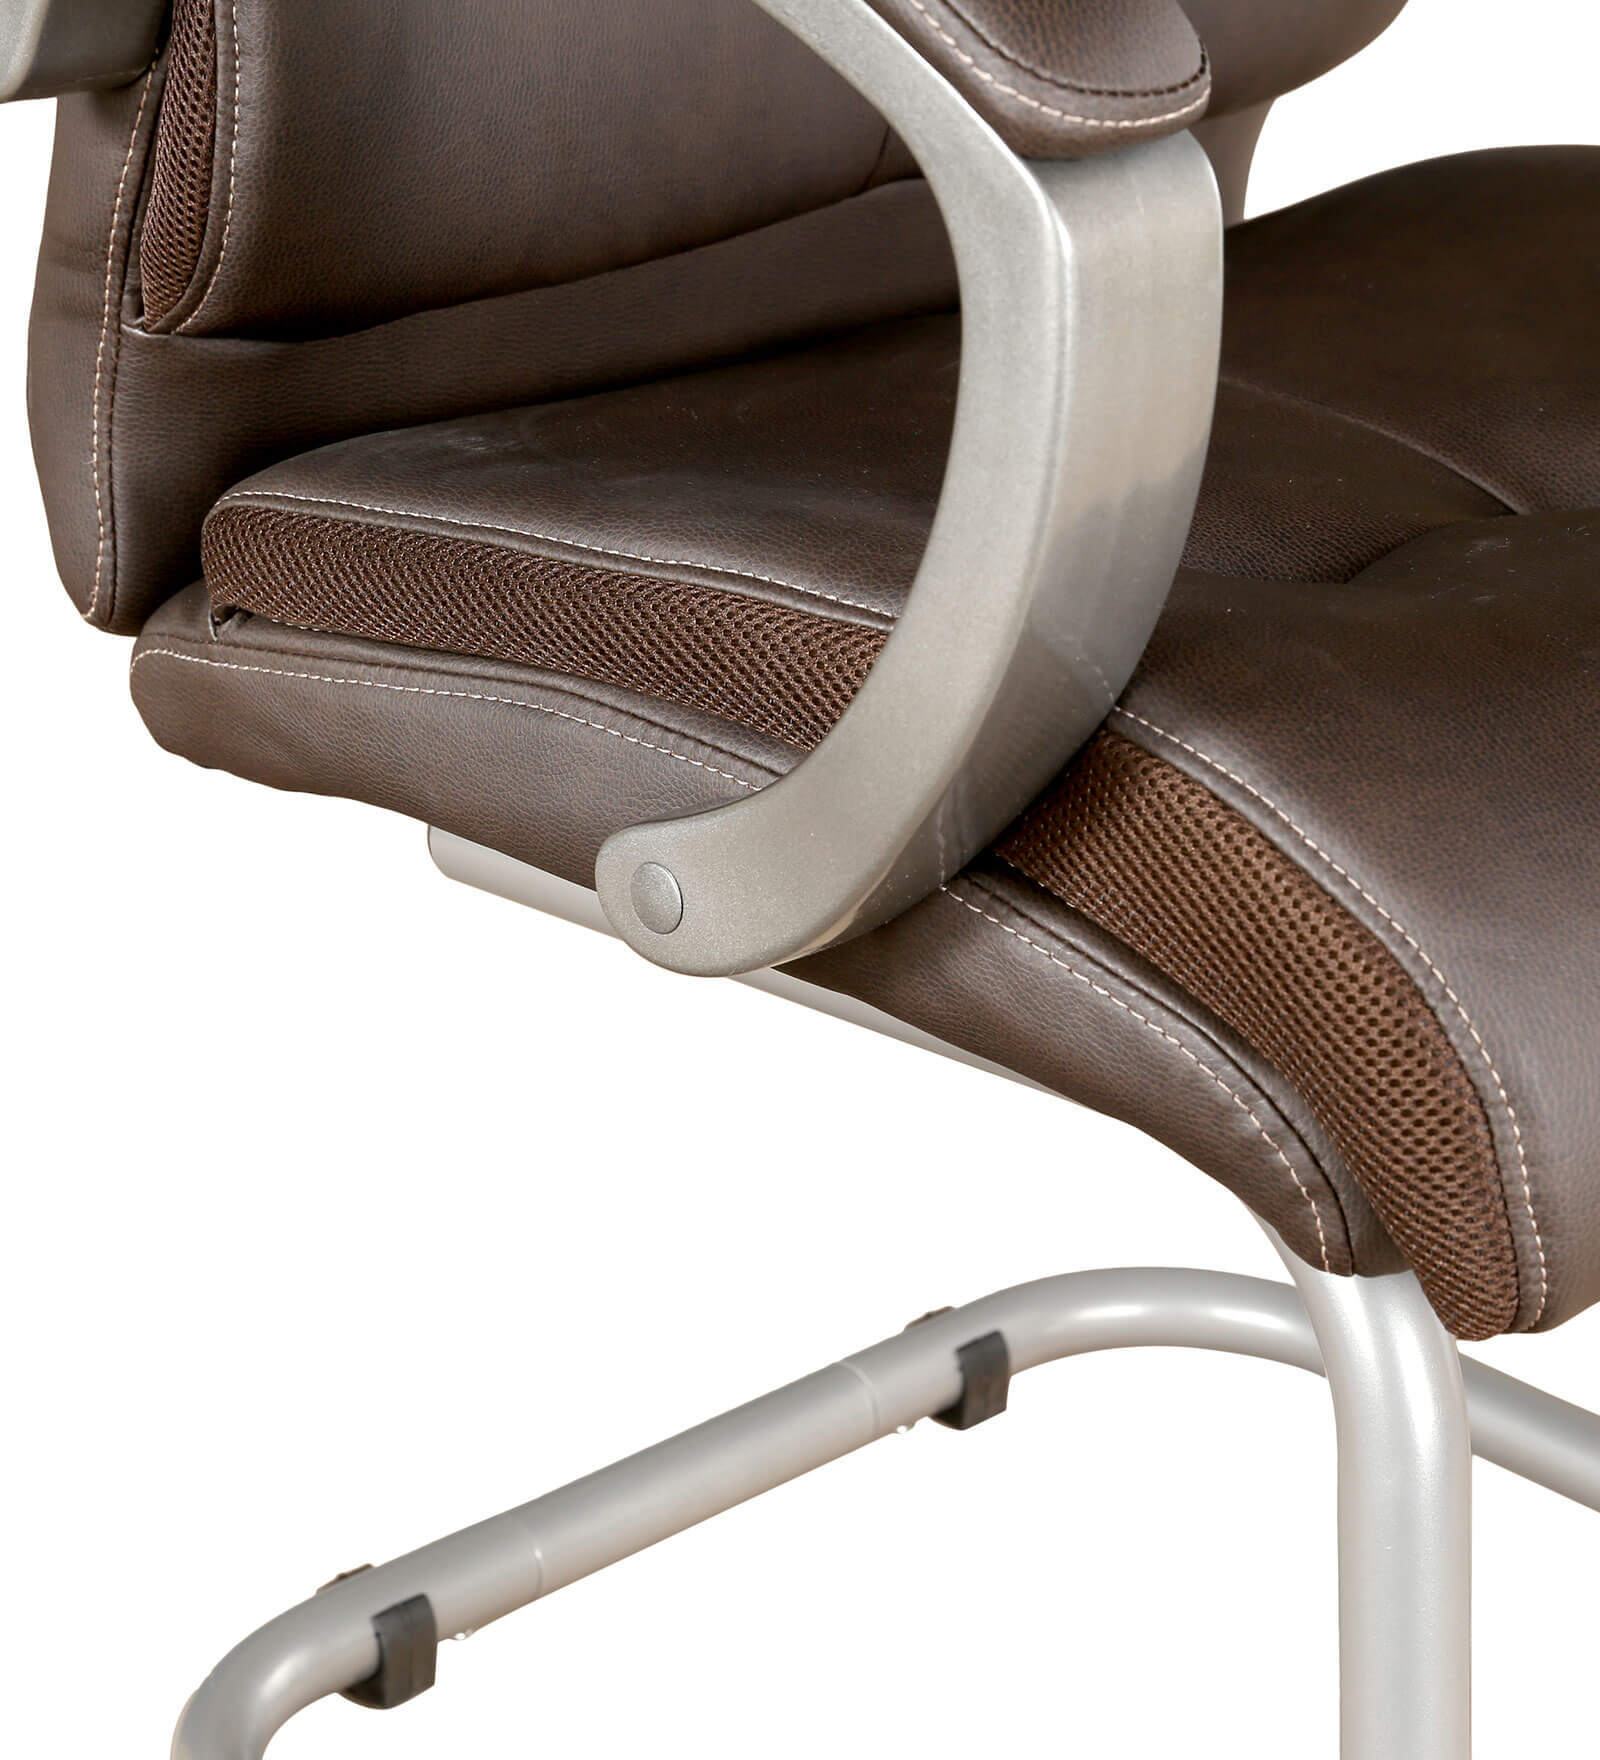Hugo Leatherette Ergonomic Chair by Hometown: (5, 5, 1600, 1752)
